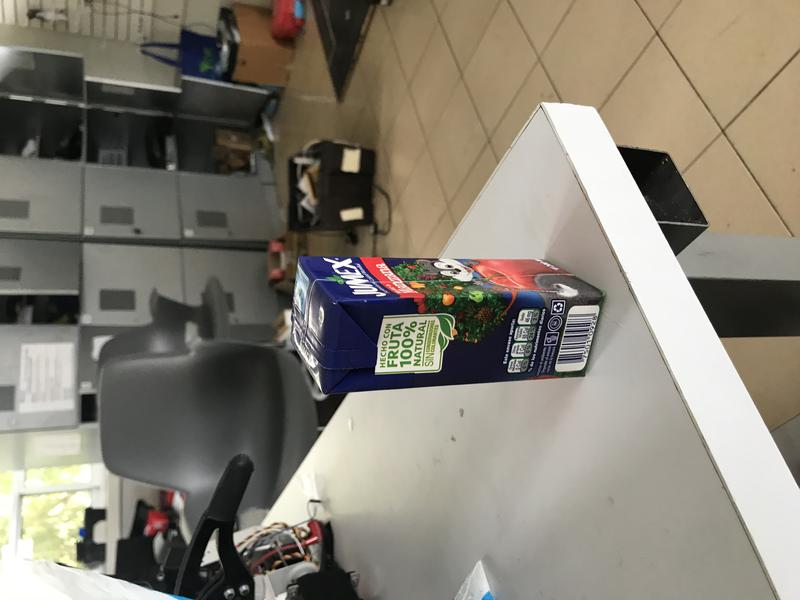jumex_cajita: (291, 257, 607, 395)
